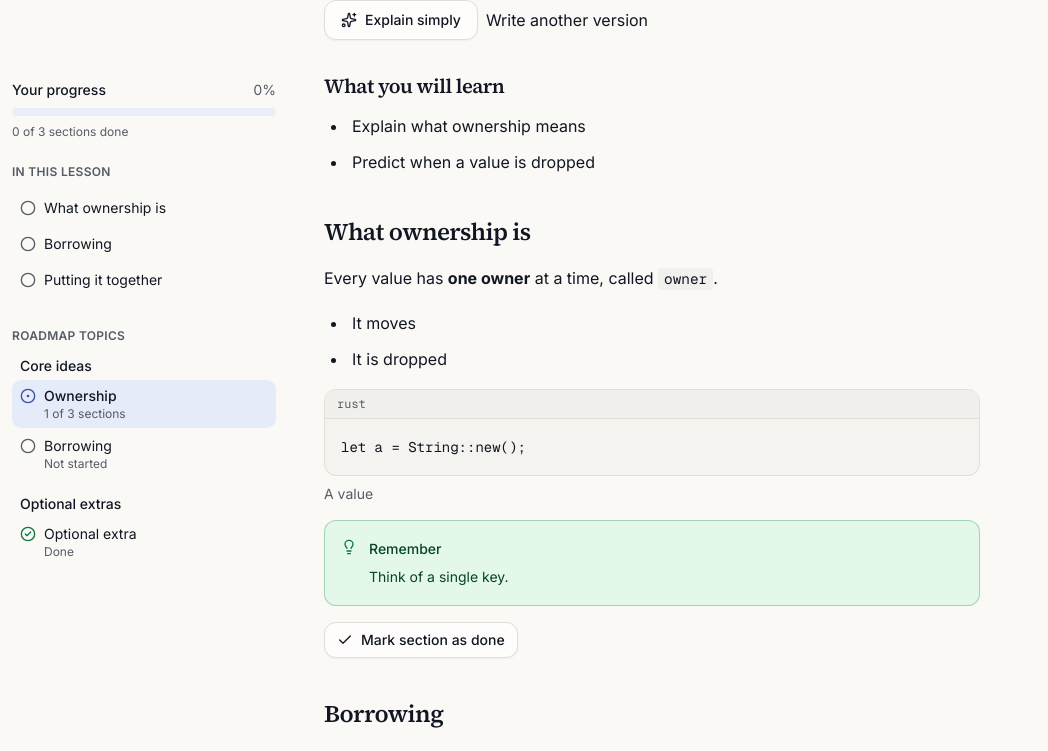
Test: tracking progress › saves ticked sections together, a moment after the last tick
Click the button named "Mark section as done for What ownership is" at (421, 640), box top-left (324, 622), bottom-right (518, 658)
(page scrolled)
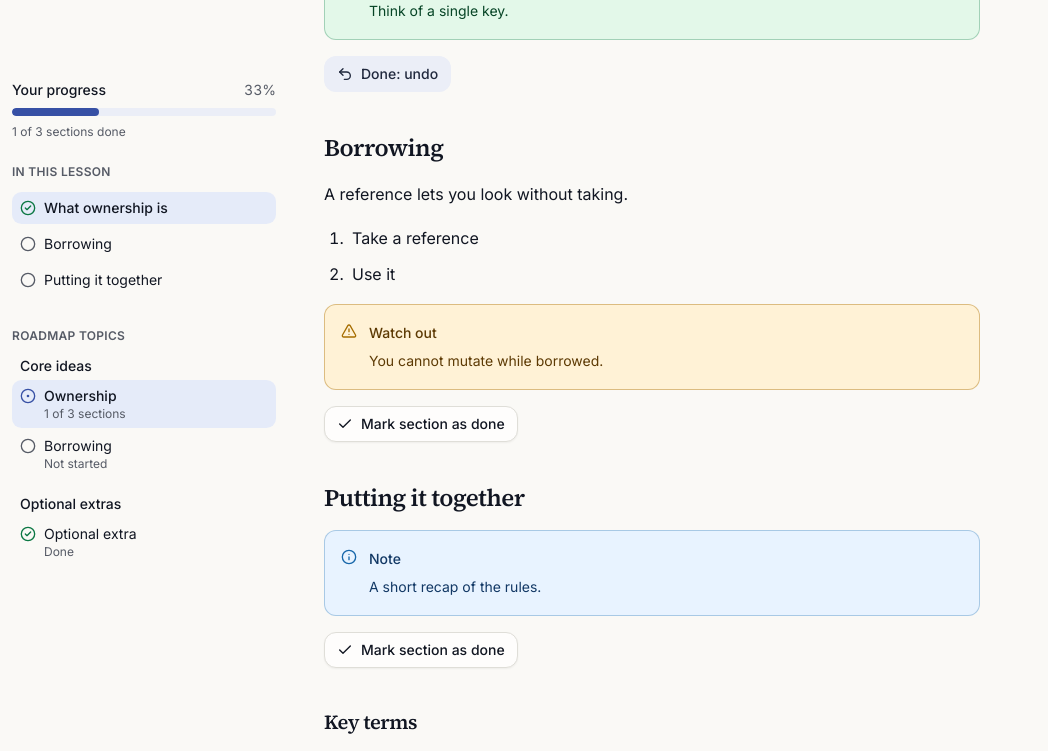
Click the button named "Mark section as done for Borrowing" at (421, 424), box top-left (324, 406), bottom-right (518, 442)
(page scrolled)
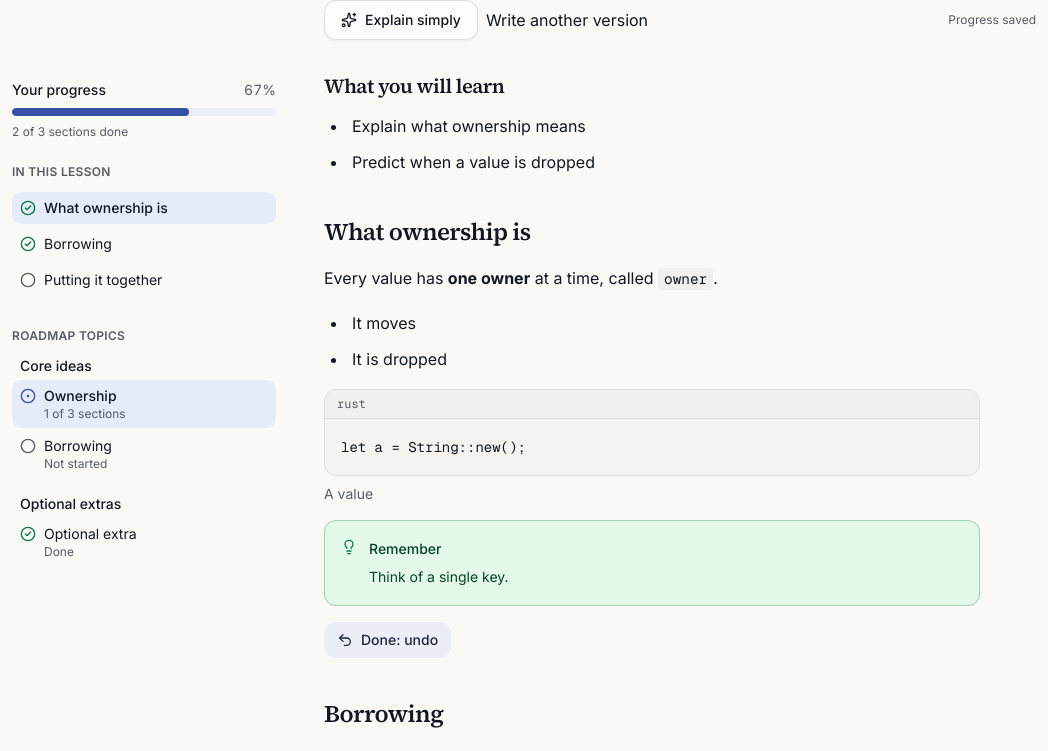
Expected: the text "Progress saved" is shown, top-left (948, 12), bottom-right (1036, 28)
